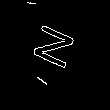N_W: (26, 16, 77, 72)
